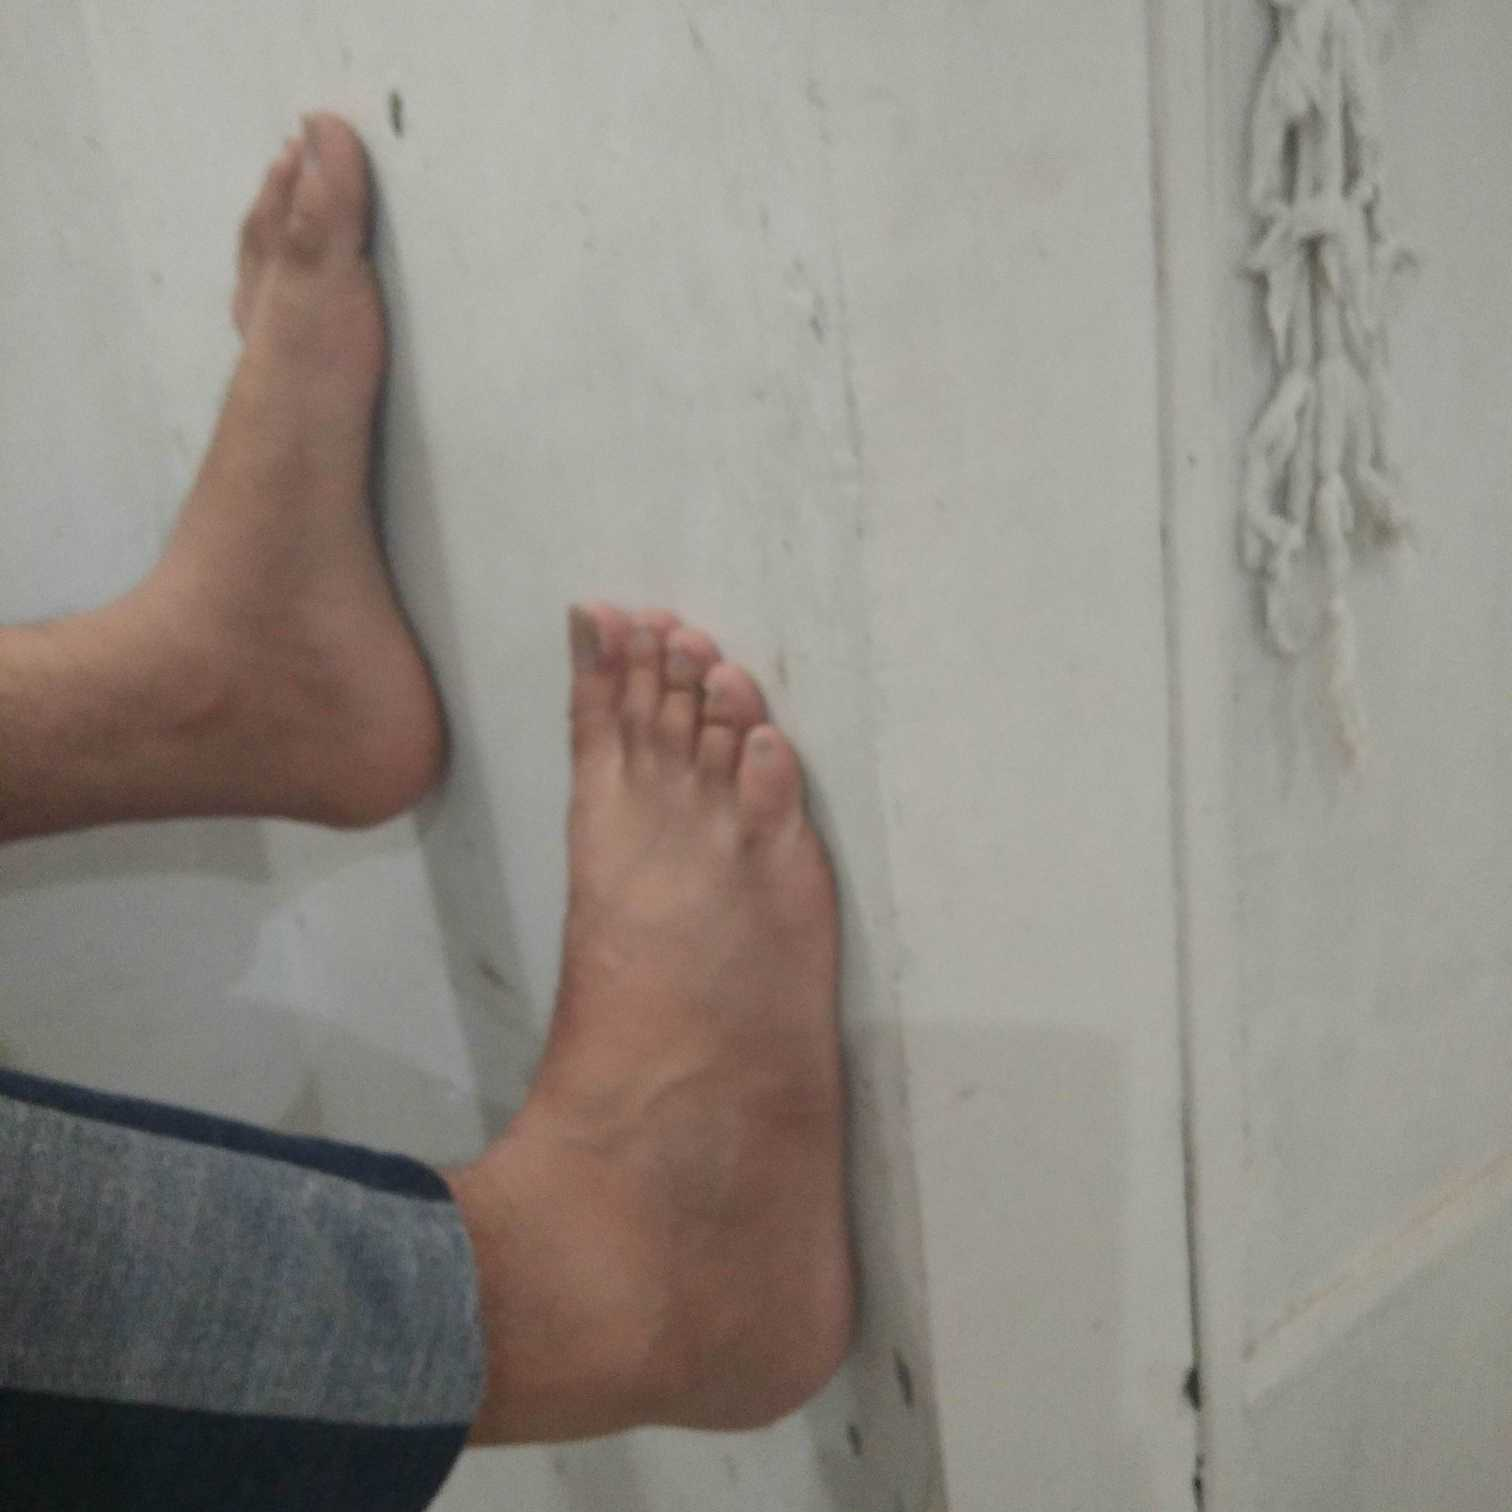foot: (529, 595, 868, 1446), (154, 101, 451, 836)
